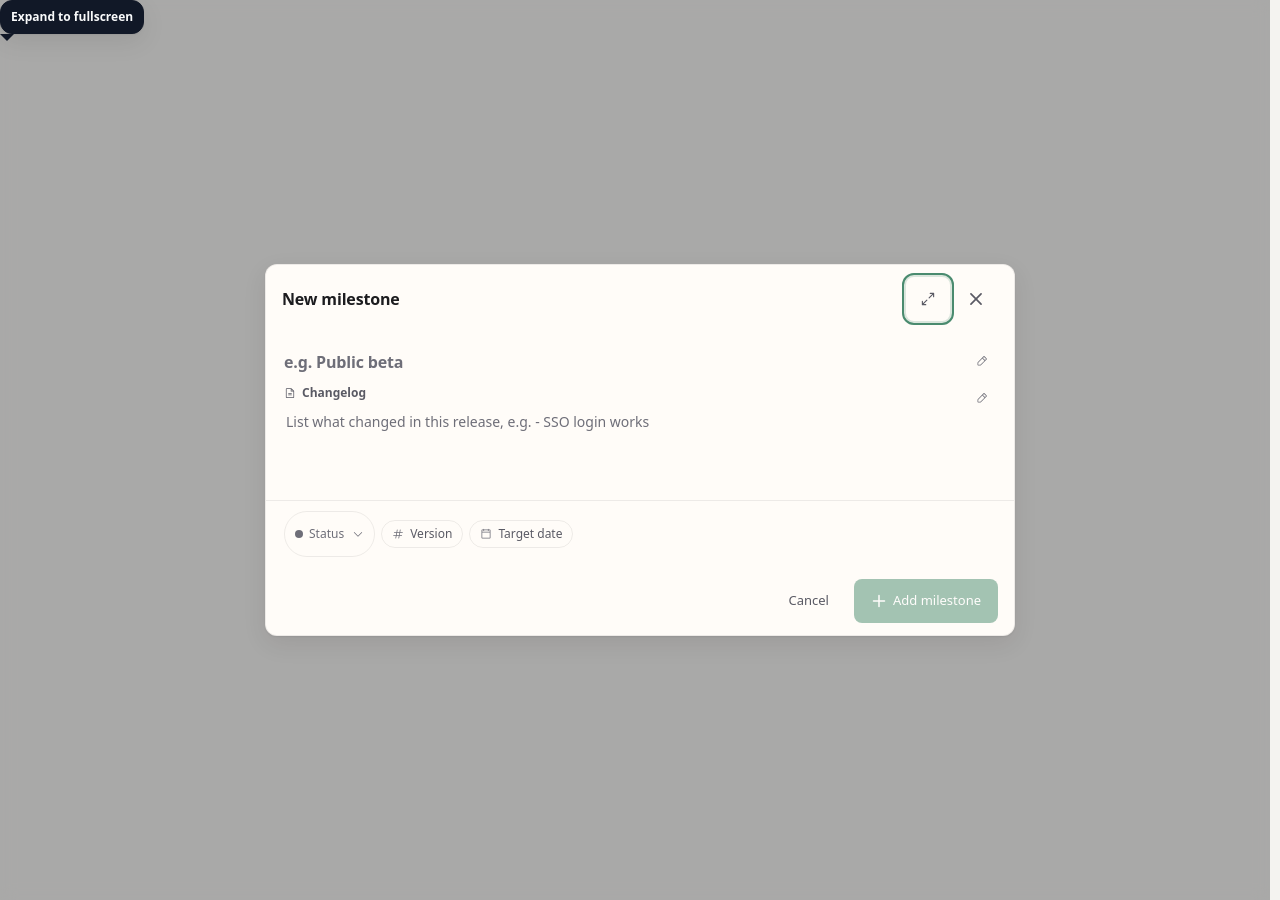
Test: NewMilestoneModal › renders the composer with Create disabled until a name is entered
This screenshot has width=1280, height=900.
Check: the button "Version" is shown, box [381,520,463,548]
Check: the button "Target date" is shown, box [469,520,574,548]
Type "Public beta" into the text box named "Name".
click(640, 363); type("Public beta")  # box [284,347,996,379]
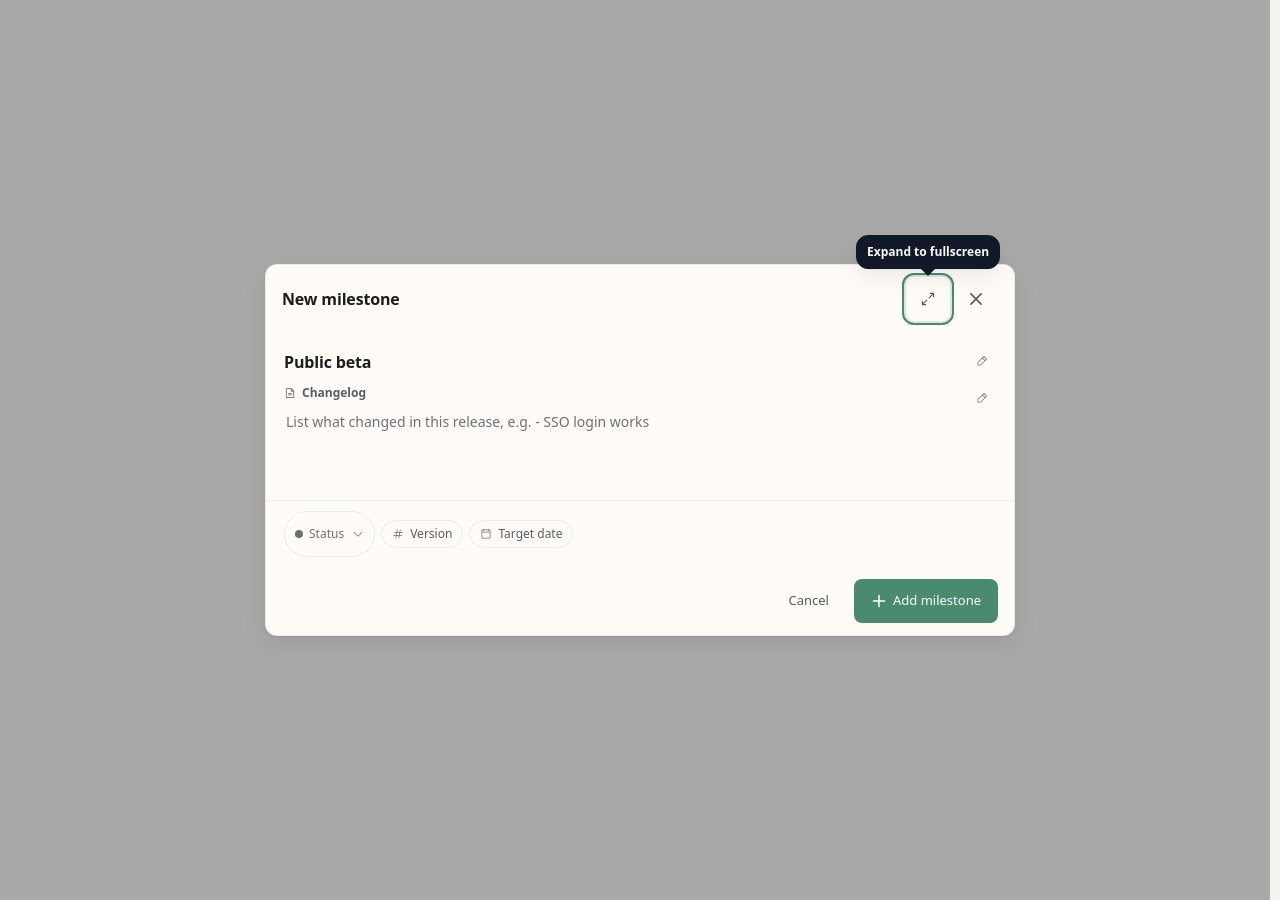
Check: the button "Add milestone" is enabled, box [854,579,998,623]
